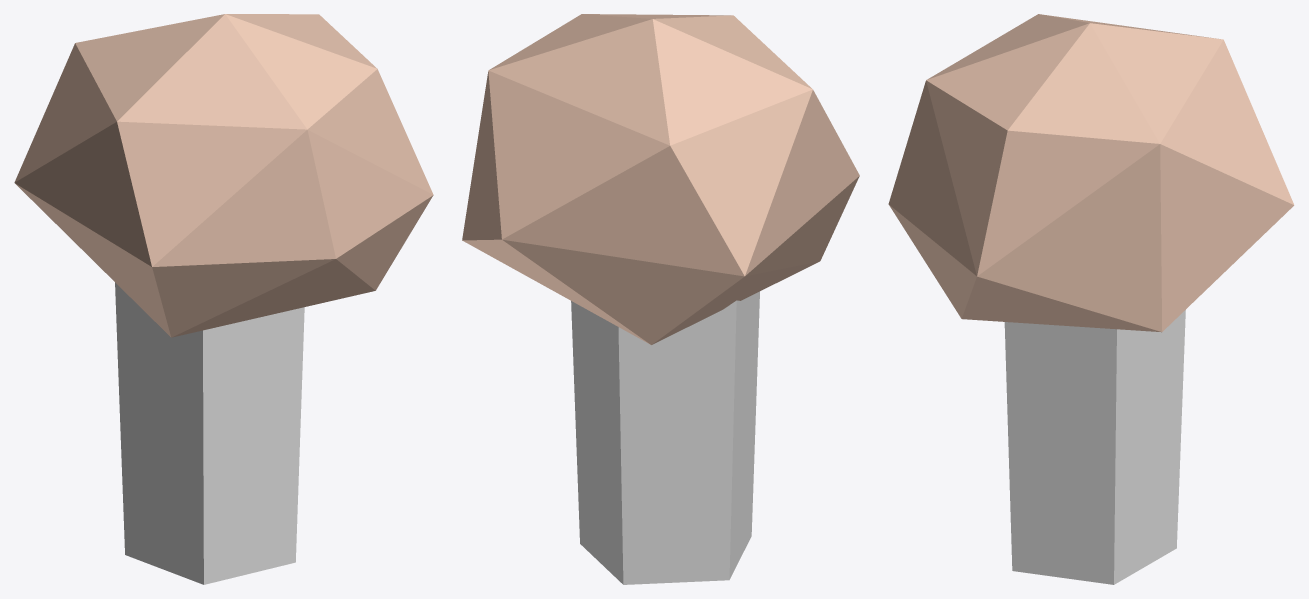
Rendered from Mushroom_g_02.fbx.
3 renders of one model, left to right at view 1: azimuth 30°, elevation 25°; view 2: azimuth 150°, elevation 25°; view 3: azimuth 270°, elevation 25°, orthographic.
Parts seen in each view (by area): view 1: Mushroom_g_02; view 2: Mushroom_g_02; view 3: Mushroom_g_02.
Boxes of the visible parts, box(x1,y1,x2,y2) form: Mushroom_g_02: box(14, 14, 433, 584); Mushroom_g_02: box(462, 14, 859, 584); Mushroom_g_02: box(888, 14, 1294, 584).
Bounding box in the file's own units: 0.1134 × 0.1875 × 0.1297.
